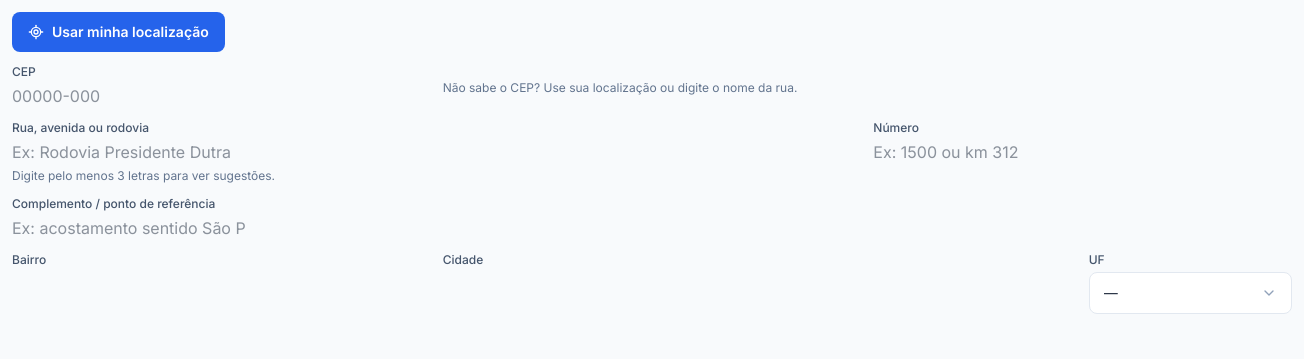
campo de localização › preenche rua, bairro, cidade e UF pelo CEP sem apagar o número
Type "1500" into the field labelled "Número" at (990, 152), box [873,140,1107,164]
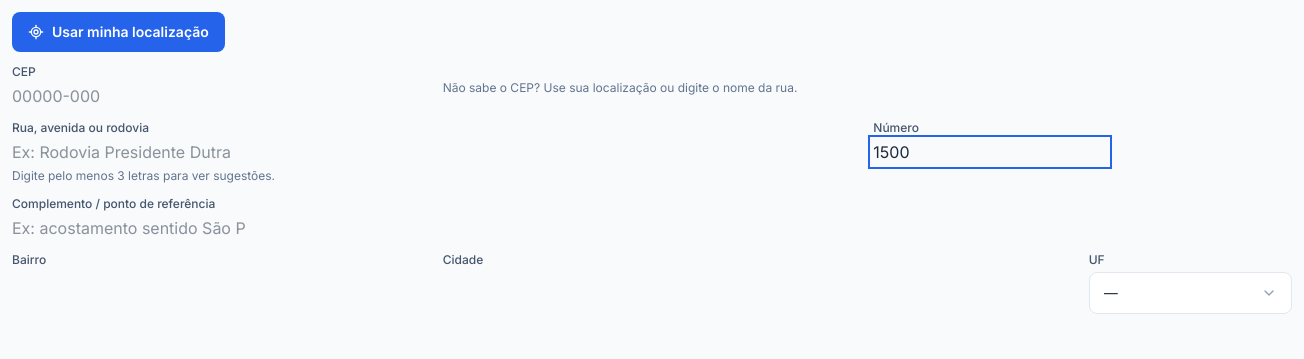
Type "01310100" into the field labelled "CEP" at (129, 96), box [12,84,246,108]
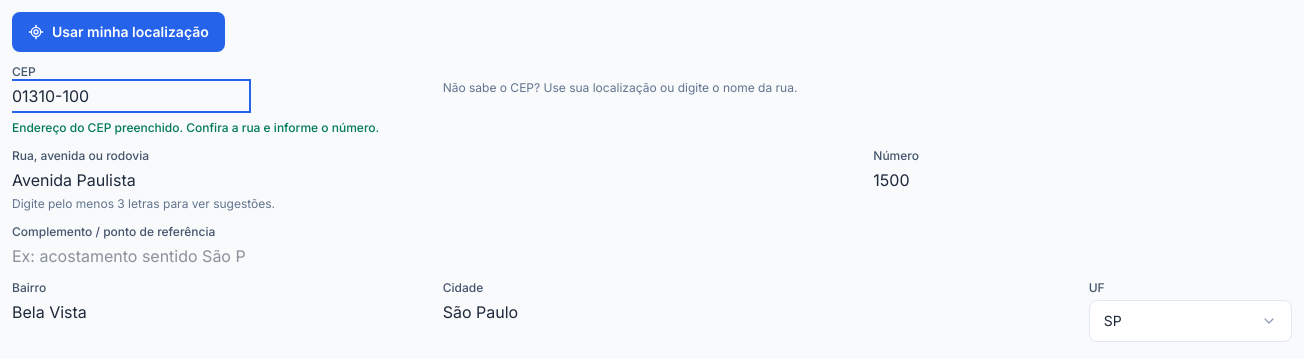
Now the dropdown labelled "Rua, avenida ou rodovia" holds "Avenida Paulista", box [12,168,246,192]
Now the field labelled "CEP" holds "01310-100", box [12,84,246,108]
Now the field labelled "Bairro" holds "Bela Vista", box [12,300,246,324]
